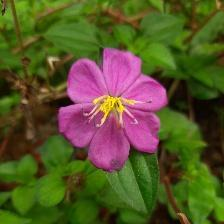malabar melastome: (58, 46, 172, 175)
